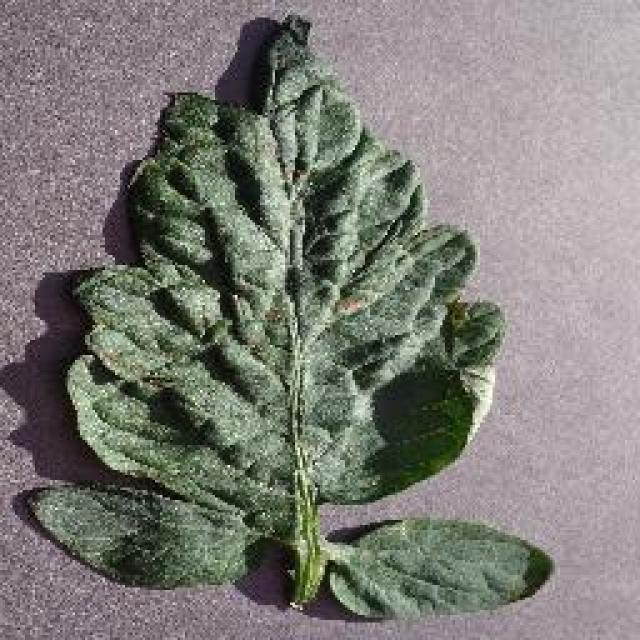Tomato Septoria spot leaf: (69, 18, 504, 518), (25, 475, 263, 593), (325, 514, 560, 618)
